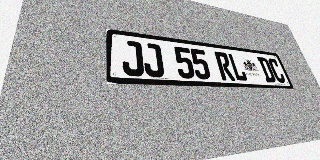5: (173, 46, 196, 79), (190, 48, 212, 80)
C: (267, 58, 287, 83)
D: (257, 57, 277, 83)
J: (121, 40, 145, 77), (142, 42, 165, 78)
L: (227, 53, 248, 81)
R: (214, 51, 236, 81)
